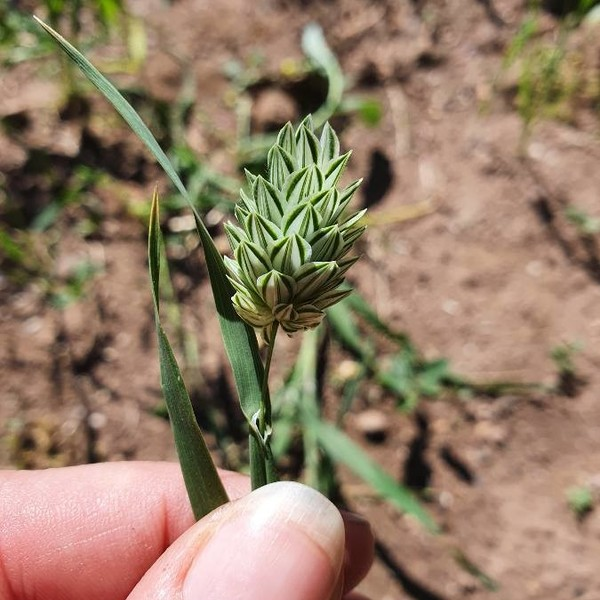obstacle: (79, 58, 355, 507)
